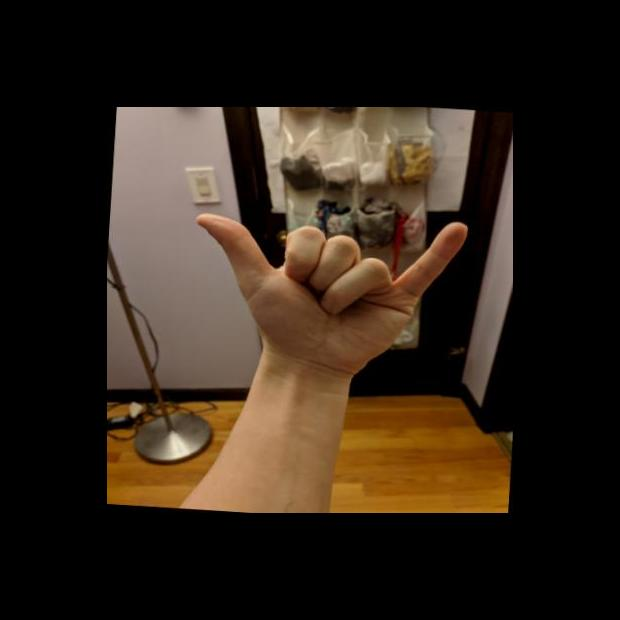X: (181, 200, 474, 380)
